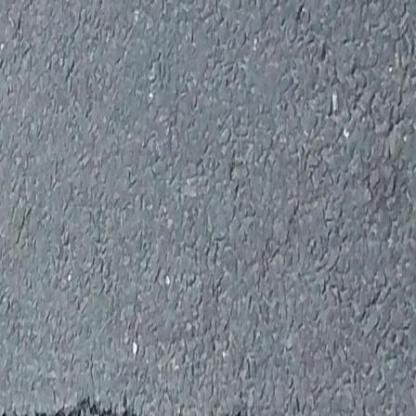Cracks: (2, 391, 179, 416)
